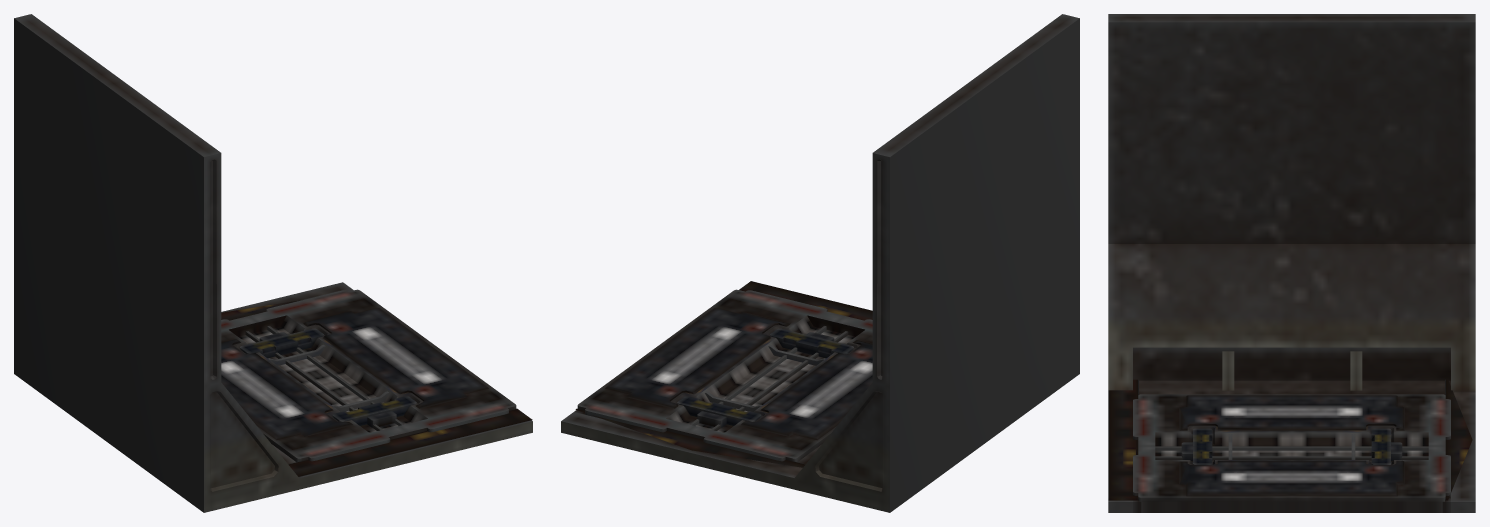
File: Wall-Floor_04.FBX
3 renders of one model, left to right at view 1: azimuth 30°, elevation 25°; view 2: azimuth 150°, elevation 25°; view 3: azimuth 270°, elevation 25°, orthographic. The views are drawn at different scales.
Visible parts, largest first — view 1: Wall-Floor_04; view 2: Wall-Floor_04; view 3: Wall-Floor_04.
Boxes of the visible parts, box(x1,y1,x2,y2) form: Wall-Floor_04: box(14, 14, 532, 512); Wall-Floor_04: box(561, 14, 1079, 512); Wall-Floor_04: box(1108, 14, 1475, 512).
Bounding box in the file's own units: 300 × 310 × 300.
